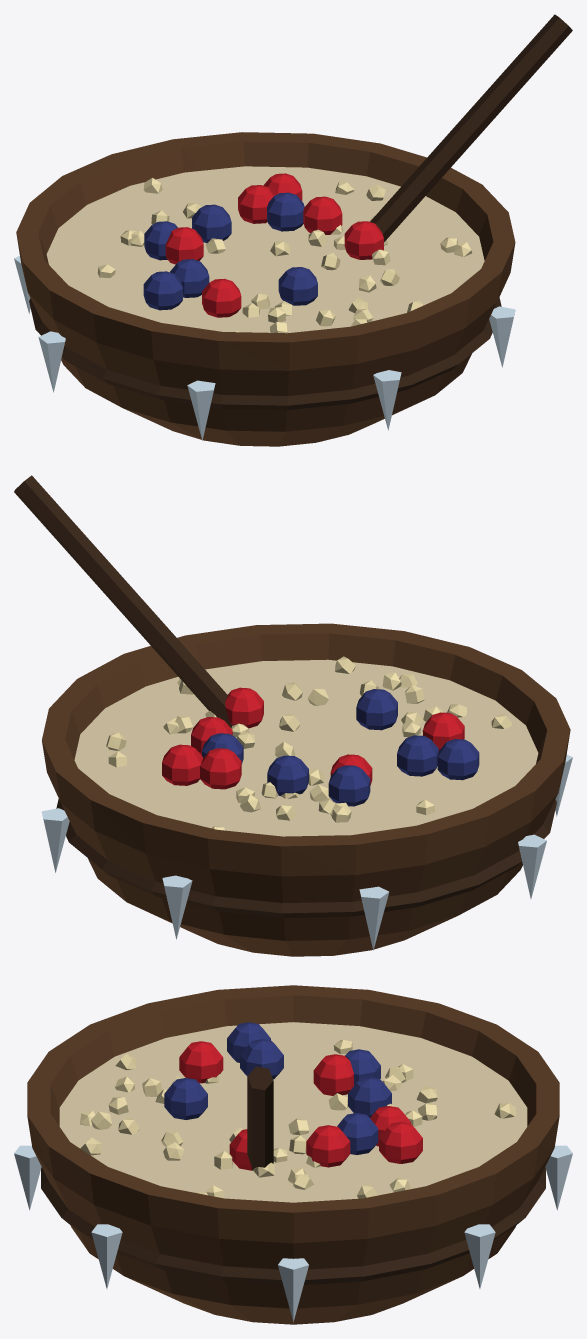
The model's file is VFP_Food_NorthernOatPorridge.obj.
The picture shows the model from 3 angles, top to bottom: view 1: azimuth 30°, elevation 25°; view 2: azimuth 150°, elevation 25°; view 3: azimuth 270°, elevation 25°; orthographic projection. The views are drawn at different scales.
Parts seen in each view (by area): view 1: Bowl, Fill, Spoon, Berries_blue, Berries, Bowl_wood_dark, Grain, Ice; view 2: Bowl, Fill, Berries_blue, Spoon, Grain, Bowl_wood_dark, Berries, Ice; view 3: Bowl, Fill, Grain, Berries, Bowl_wood_dark, Berries_blue, Ice, Spoon.
Part boxes in pixels (<box>): Bowl: <box>16,132,515,446</box>; Fill: <box>46,166,484,333</box>; Spoon: <box>370,14,572,242</box>; Berries_blue: <box>143,192,317,310</box>; Berries: <box>165,173,383,317</box>; Bowl_wood_dark: <box>29,297,501,410</box>; Grain: <box>97,178,471,333</box>; Ice: <box>14,256,515,440</box>; Bowl: <box>42,623,570,956</box>; Fill: <box>74,659,538,836</box>; Berries_blue: <box>202,689,479,806</box>; Spoon: <box>14,475,232,727</box>; Grain: <box>106,656,512,830</box>; Bowl_wood_dark: <box>56,799,556,917</box>; Berries: <box>162,687,464,789</box>; Ice: <box>41,754,572,950</box>; Bowl: <box>27,985,559,1324</box>; Fill: <box>59,1022,527,1202</box>; Grain: <box>80,1039,515,1198</box>; Berries: <box>179,1041,422,1170</box>; Bowl_wood_dark: <box>41,1167,545,1284</box>; Berries_blue: <box>164,1022,391,1154</box>; Ice: <box>14,1145,572,1322</box>; Spoon: <box>247,1066,273,1170</box>.
Size of the model in its own units: 0.3861 by 0.2289 by 0.339.
